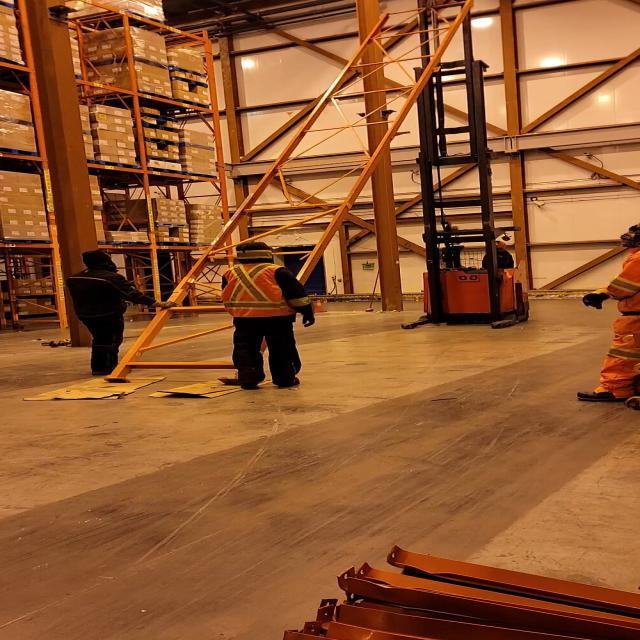forklift: (397, 149, 535, 332)
human: (216, 240, 321, 392), (62, 248, 180, 380), (570, 222, 640, 405), (455, 238, 524, 273)
objectofinterest: (90, 0, 480, 387), (19, 375, 168, 404), (147, 376, 288, 399)
